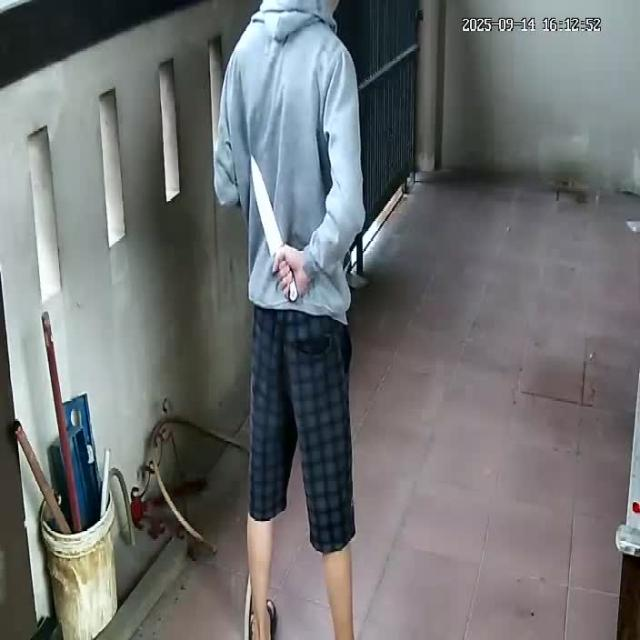senjata_tajam: (249, 150, 284, 258)
